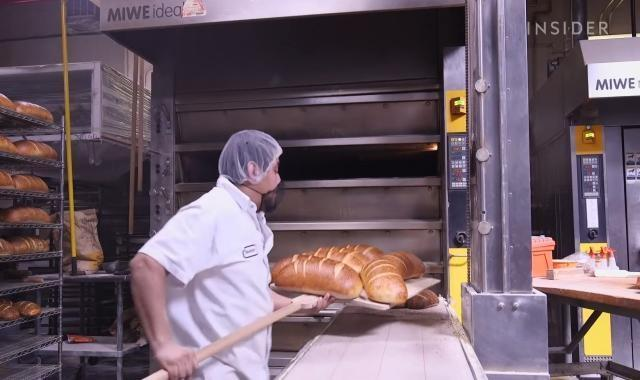gloves: (206, 121, 272, 174)
mask: (246, 176, 291, 216)
no_apron: (145, 332, 204, 380), (278, 288, 340, 324)
